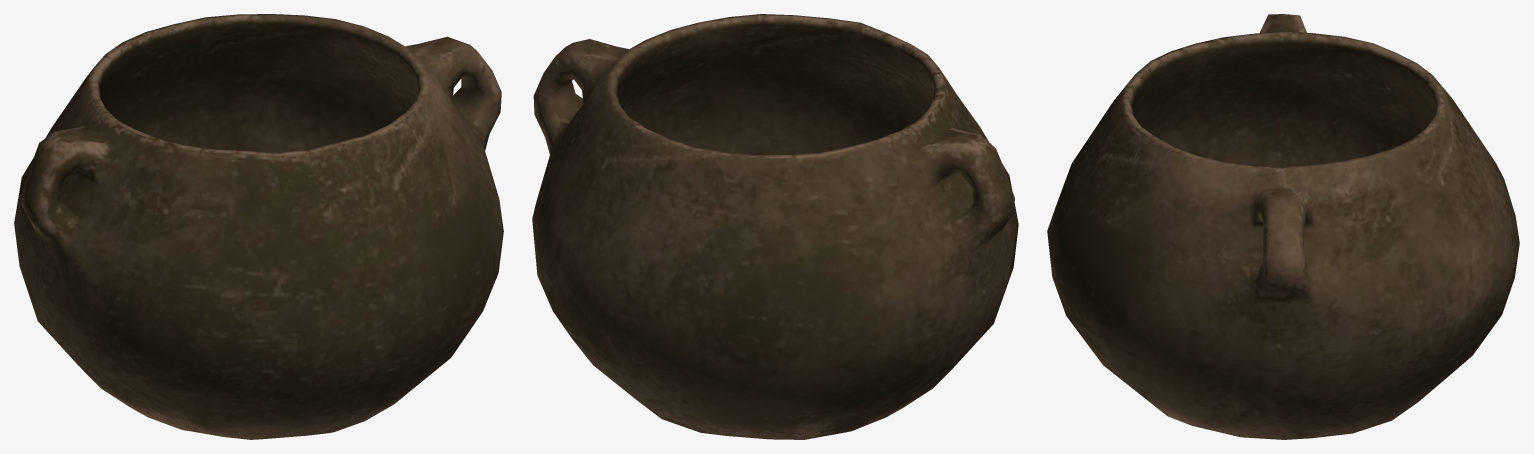
File: SM_Ceramica02.glb
3 renders of one model, left to right at view 1: azimuth 30°, elevation 25°; view 2: azimuth 150°, elevation 25°; view 3: azimuth 270°, elevation 25°, orthographic. The views are drawn at different scales.
Parts seen in each view (by area): view 1: SM_Ceramica02; view 2: SM_Ceramica02; view 3: SM_Ceramica02.
Part boxes in pixels (x1,y1,x2,y2): SM_Ceramica02: (14, 14, 503, 439); SM_Ceramica02: (532, 14, 1018, 439); SM_Ceramica02: (1047, 14, 1519, 439).
Bounding box in the file's own units: 0.4201 × 0.2561 × 0.3831.
Materials: 1 (1 with a texture image).
